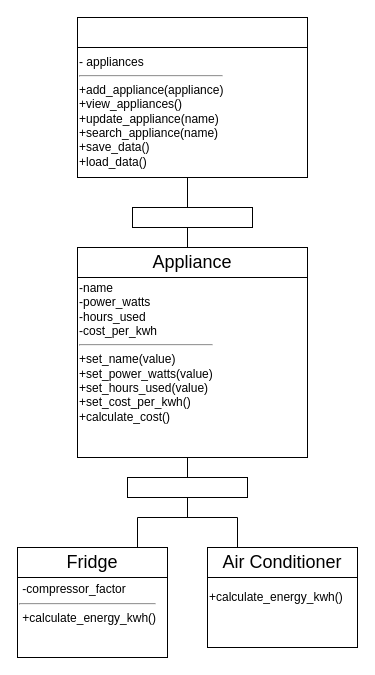
Image size: 375x675. Some labels were removed from this diagram. The box of each missing label's shape, as (x1, y1, x2, y2) in pixels:
Energy Monitor: (76, 16, 308, 48)
Inherits: (126, 476, 248, 498)
Manages: (132, 206, 252, 228)
